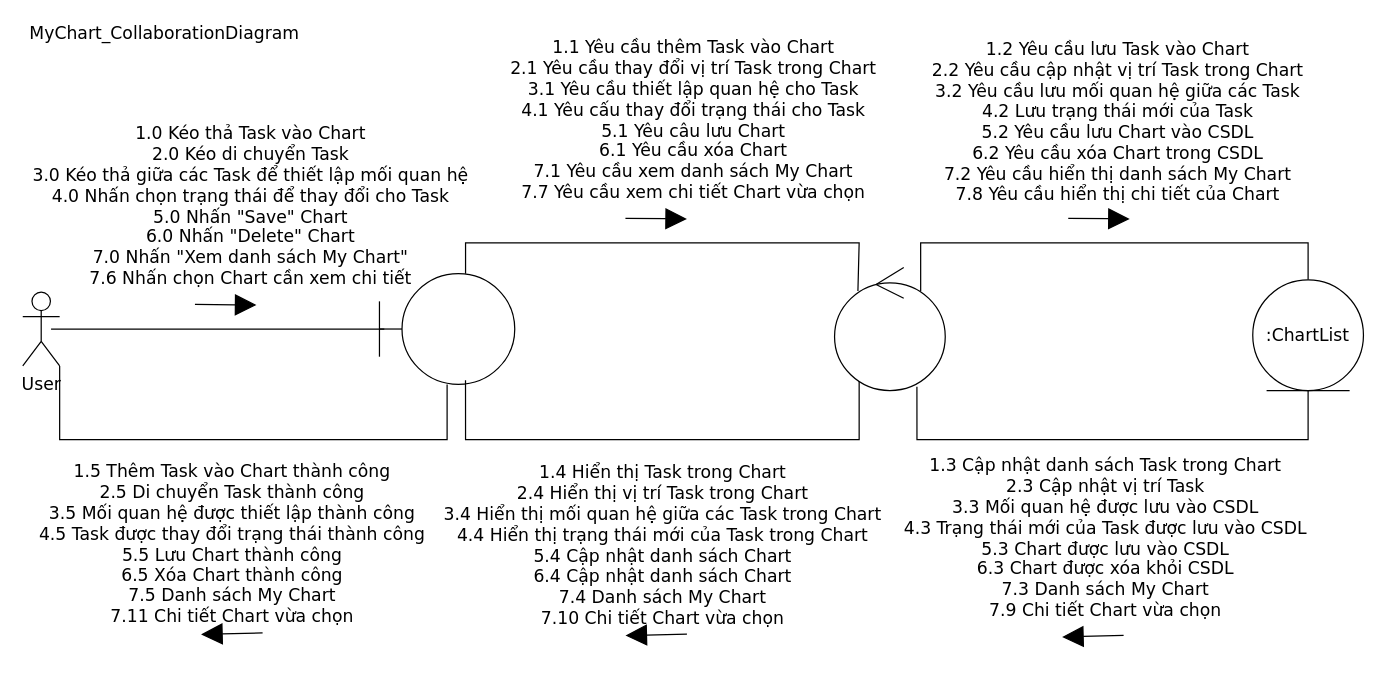
The diagram is 1385 pixels wide and 679 high, and some of its shapes have lost their labels. The centre of each missing label's shape, as x and y in pixels:
:MyChart Controller: (889,328)
:Trang MyChart: (446,328)
